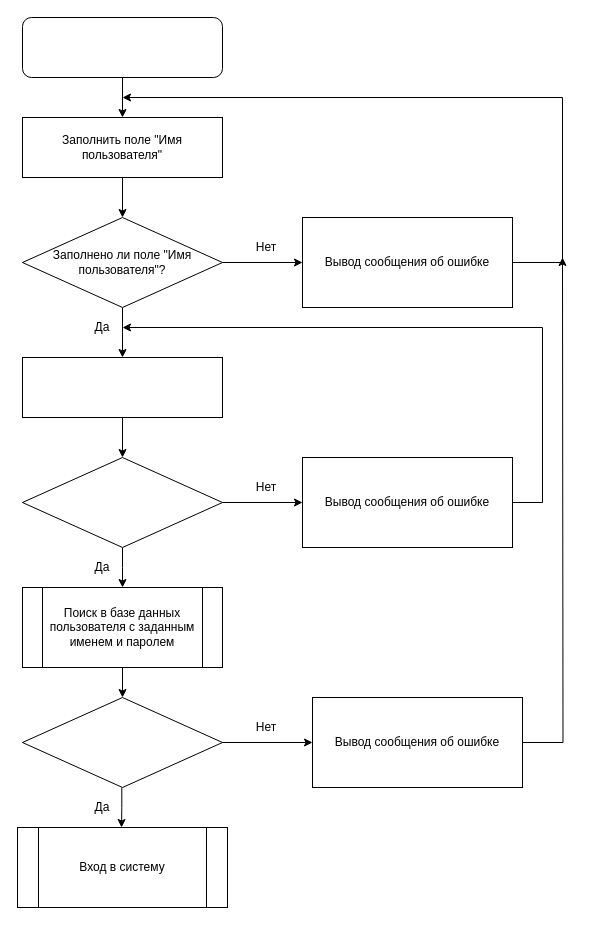
Image size: 589x925. Some labels were removed from this diagram. The shapes that lost their labels are listed below. From the top down, each one's centre as x and y in pixels, then its label:
point 122,47: Начало
point 122,387: Заполнить поле "Пароль"
point 122,502: Заполнено ли поле "Пароль"?
point 122,742: В базе данных есть данный пользователь?
